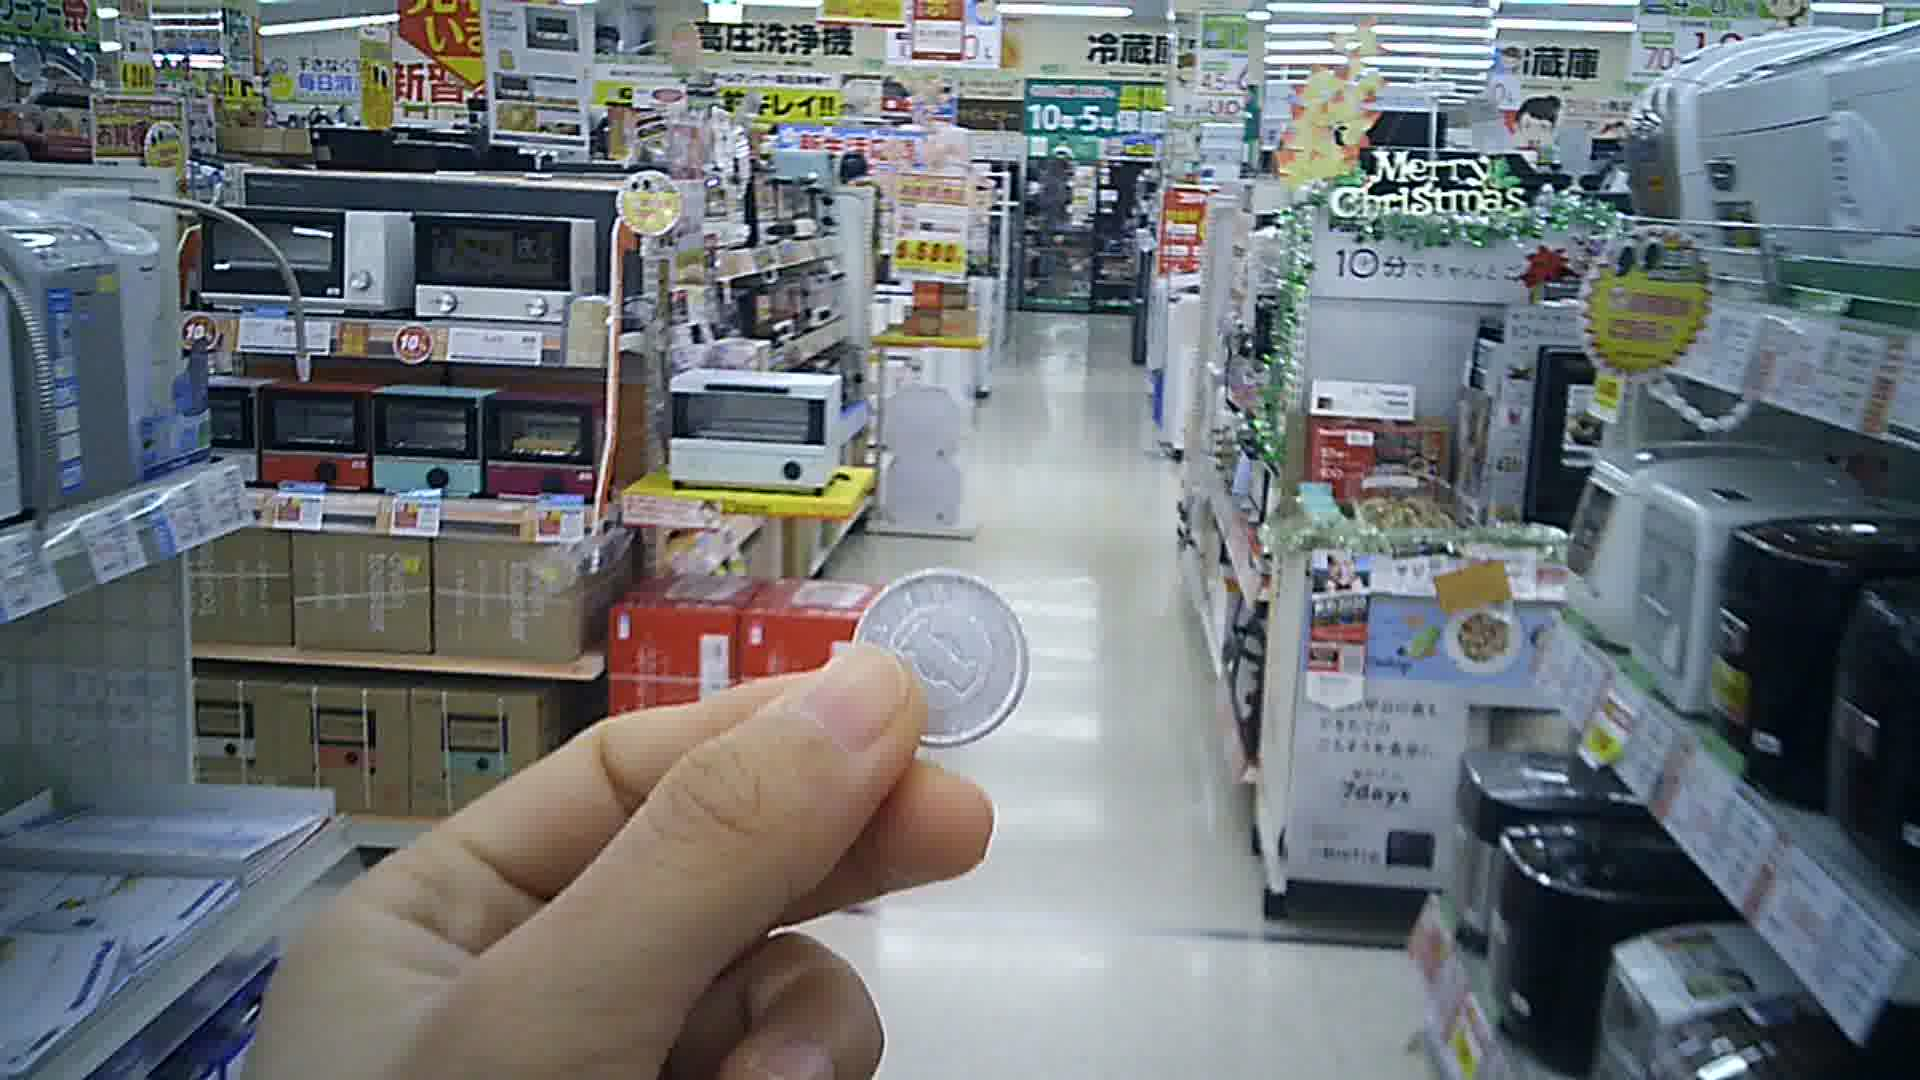1 Yen: (840, 566, 1033, 738)
